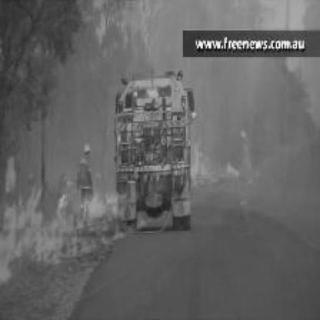other: (6, 154, 108, 252)
